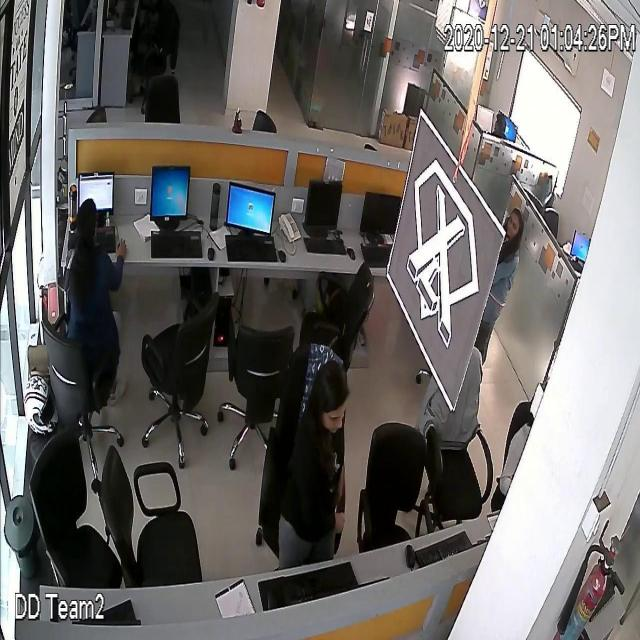chair: (258, 342, 350, 564), (101, 422, 205, 582), (29, 429, 121, 593), (140, 291, 220, 469), (40, 314, 124, 478), (424, 332, 491, 522), (222, 313, 294, 475), (355, 409, 425, 552), (298, 263, 376, 365), (133, 0, 179, 69), (494, 390, 530, 476), (142, 70, 182, 124), (251, 106, 279, 137), (542, 204, 562, 236), (82, 108, 110, 125), (362, 139, 379, 152)
keyboard: (278, 561, 358, 598), (415, 528, 473, 566), (78, 594, 144, 626), (148, 227, 204, 261), (221, 233, 280, 265), (302, 235, 348, 257), (359, 239, 389, 269), (94, 222, 118, 252)
monitor: (225, 173, 275, 236), (304, 173, 342, 232), (151, 166, 191, 222), (361, 183, 401, 237), (76, 171, 116, 216), (474, 95, 494, 134), (571, 230, 591, 260), (502, 112, 518, 140)
person: (65, 195, 126, 367), (293, 351, 341, 565), (474, 198, 524, 383), (496, 400, 532, 498), (491, 106, 507, 140)
